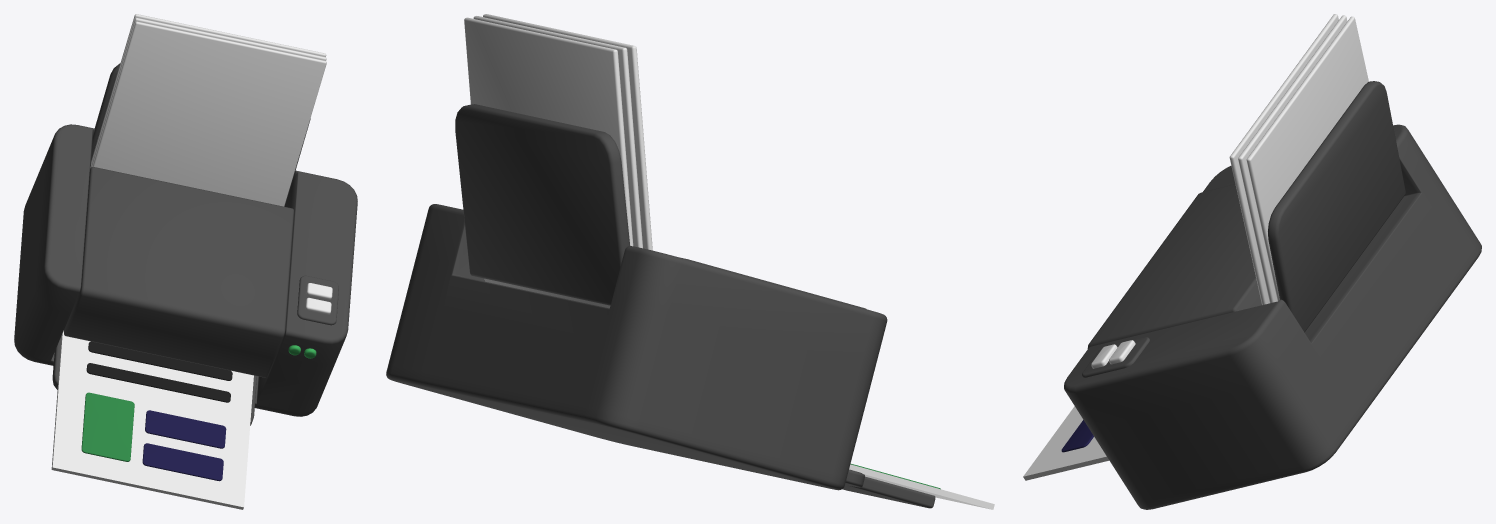
Rendered from Printer.glb.
3 views of the same model, side by side, from view 1: azimuth 30°, elevation 25°; view 2: azimuth 150°, elevation 25°; view 3: azimuth 270°, elevation 25° (orthographic). The views are drawn at different scales.
Visible parts, largest first — view 1: Cube.039, Plane.059, Printer, Plane.047, Plane.057, Plane.054, Plane.056, Plane.055, Plane.025, Cube.040, Cube.041; view 2: Printer, Cube.040, Plane.059, Cube.041, Plane.047; view 3: Printer, Cube.040, Plane.059, Cube.039, Plane.047, Plane.025, Plane.055.
Part boxes in pixels (left/top/right/bottom): Cube.039: left=64, top=167, right=293, bottom=377; Plane.059: left=90, top=14, right=326, bottom=206; Printer: left=14, top=124, right=357, bottom=416; Plane.047: left=51, top=330, right=253, bottom=509; Plane.057: left=86, top=341, right=232, bottom=402; Plane.054: left=81, top=392, right=134, bottom=461; Plane.056: left=145, top=410, right=226, bottom=448; Plane.055: left=142, top=443, right=223, bottom=481; Plane.025: left=297, top=275, right=338, bottom=325; Cube.040: left=91, top=63, right=310, bottom=206; Cube.041: left=52, top=336, right=256, bottom=425; Printer: left=386, top=204, right=887, bottom=490; Cube.040: left=455, top=104, right=630, bottom=305; Plane.059: left=464, top=14, right=652, bottom=308; Cube.041: left=842, top=469, right=935, bottom=508; Plane.047: left=849, top=464, right=994, bottom=509; Printer: left=1064, top=124, right=1481, bottom=509; Cube.040: left=1268, top=81, right=1405, bottom=332; Plane.059: left=1229, top=14, right=1368, bottom=304; Cube.039: left=1087, top=184, right=1261, bottom=348; Plane.047: left=1023, top=406, right=1109, bottom=480; Plane.025: left=1082, top=337, right=1149, bottom=377; Plane.055: left=1061, top=420, right=1093, bottom=452.
Bounding box in the file's own units: 3.32 × 3.56 × 3.09.
